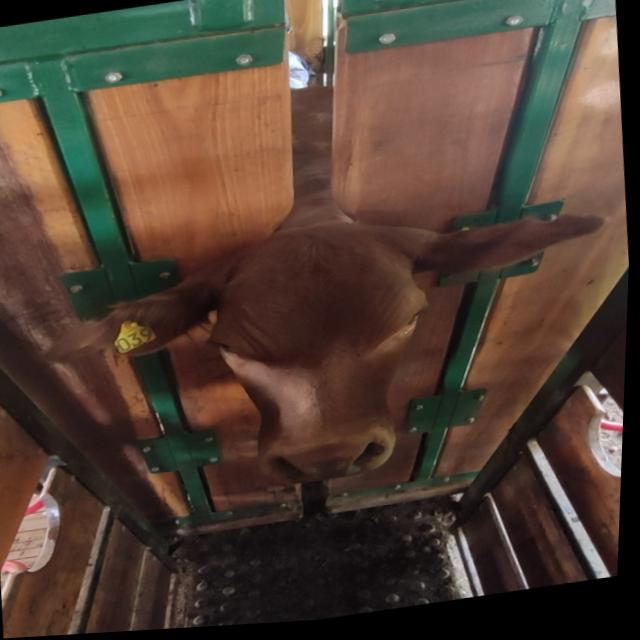cowFace: (196, 216, 447, 498)
